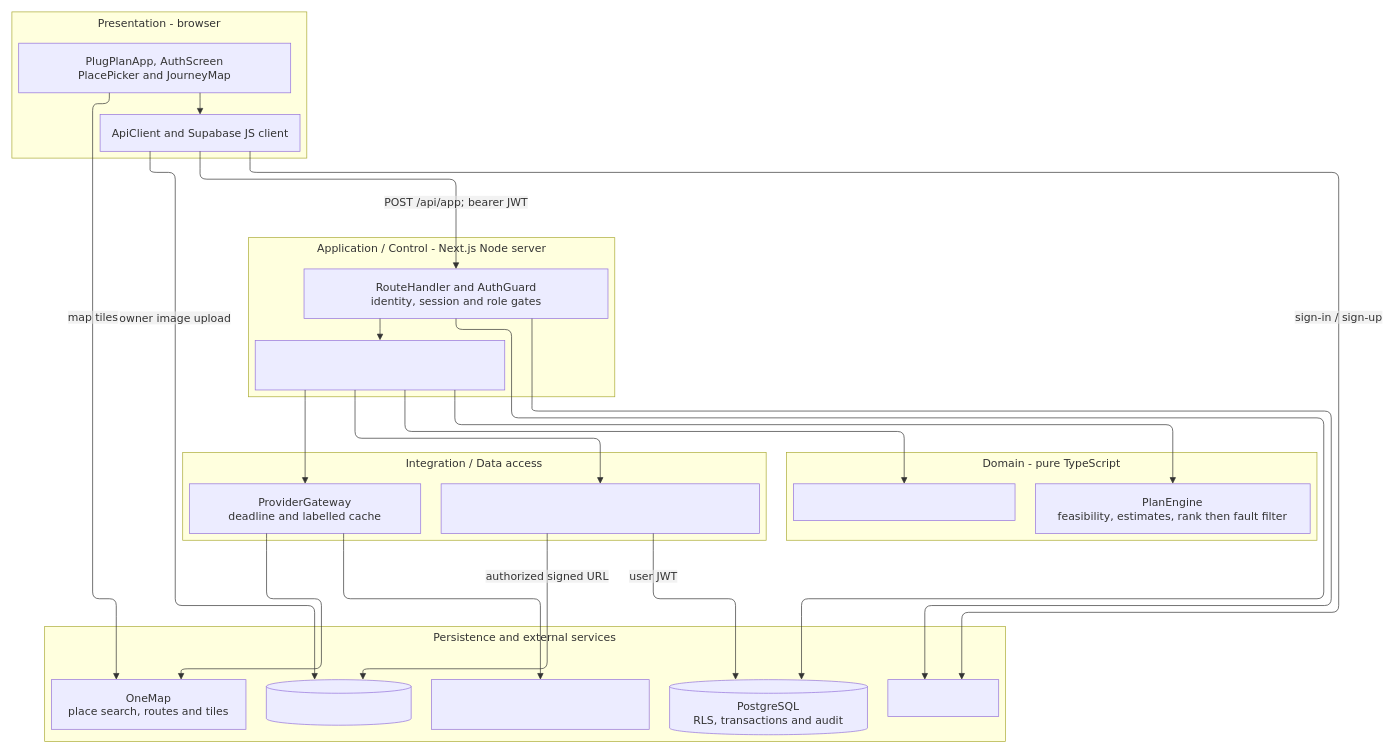
Some shapes in this 1394 by 753 pixel diagram are drawn without their labels. Each missing label, with the centre of its shape:
"LTA DataMall station / connector snapshots" belongs at point (540, 704).
"Private issue-image Storage" belongs at point (338, 702).
"Profile / Plan / Report / Bootstrap repository functions in db.ts" belongs at point (599, 508).
"ServiceHandler validate and coordinate use cases" belongs at point (380, 365).
"Supabase Auth" belongs at point (943, 697).
"ValidationSchemas and DemoFixtures" belongs at point (904, 502).
